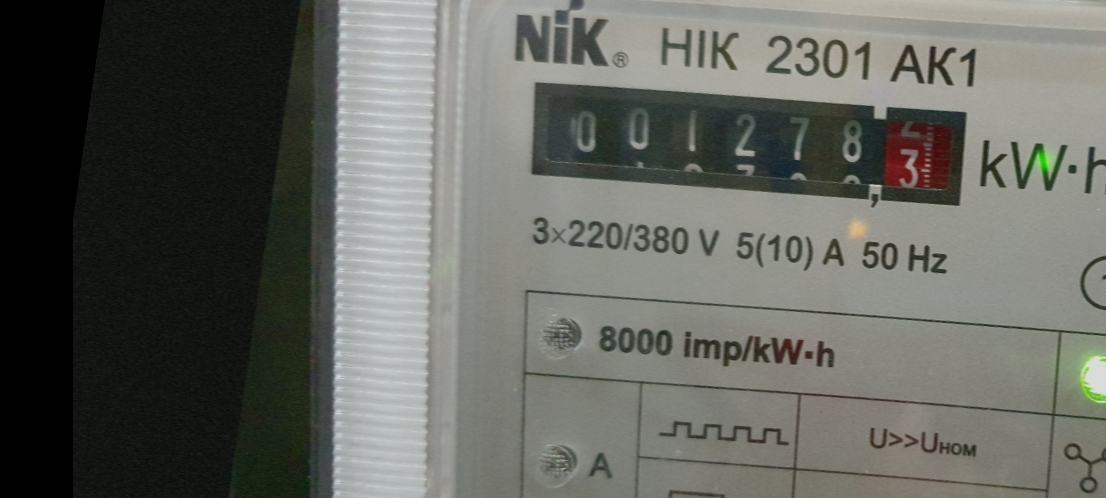0: (569, 103, 602, 154), (621, 101, 653, 151)
1: (679, 103, 704, 151)
2: (728, 108, 761, 158), (896, 115, 922, 138)
3: (891, 142, 923, 189)
7: (781, 111, 810, 160)
8: (836, 115, 866, 162)
screen: (505, 34, 990, 248)
